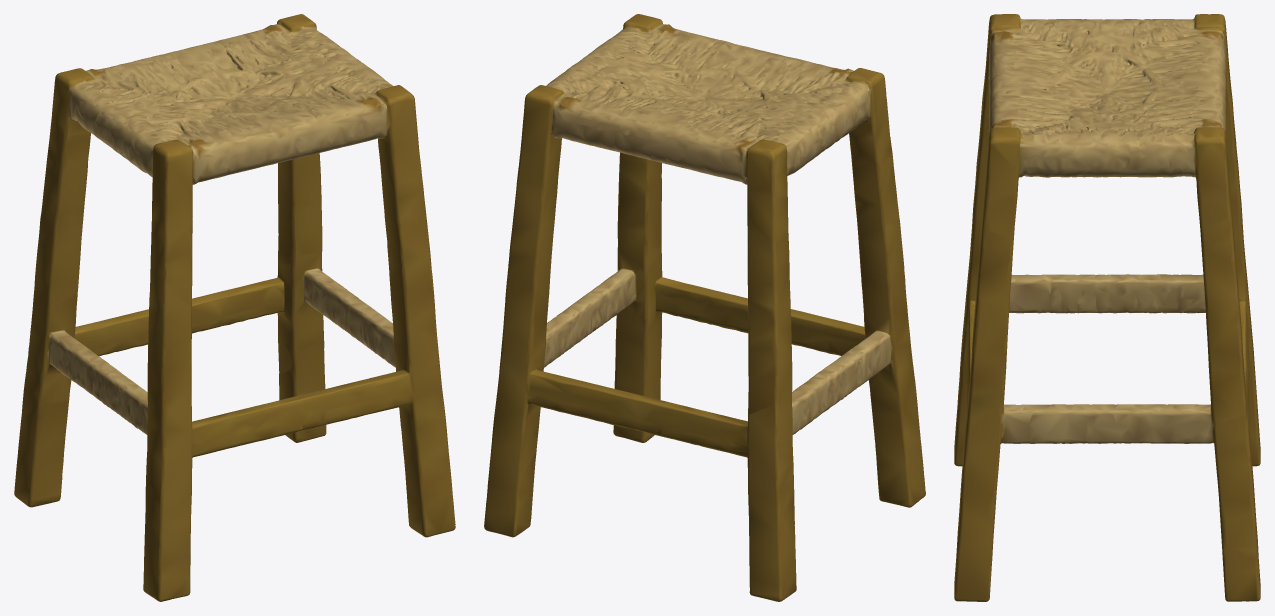
File: bar_stool.glb
3 views of the same model, side by side, from view 1: azimuth 30°, elevation 25°; view 2: azimuth 150°, elevation 25°; view 3: azimuth 270°, elevation 25° (orthographic). The views are drawn at different scales.
Bounding box in the file's own units: 0.7222 × 1 × 0.6147.
